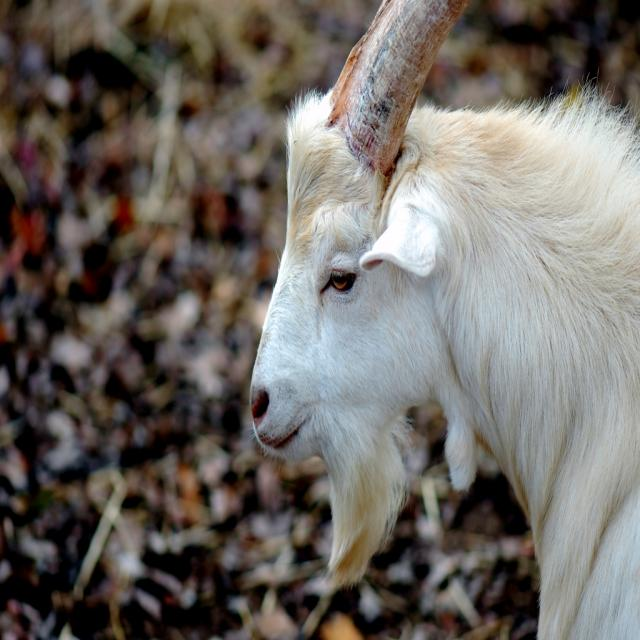Goat: (249, 0, 640, 640)
